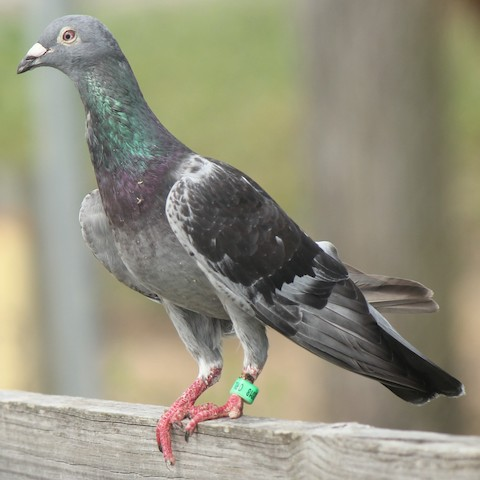pigeon: (8, 12, 473, 463)
